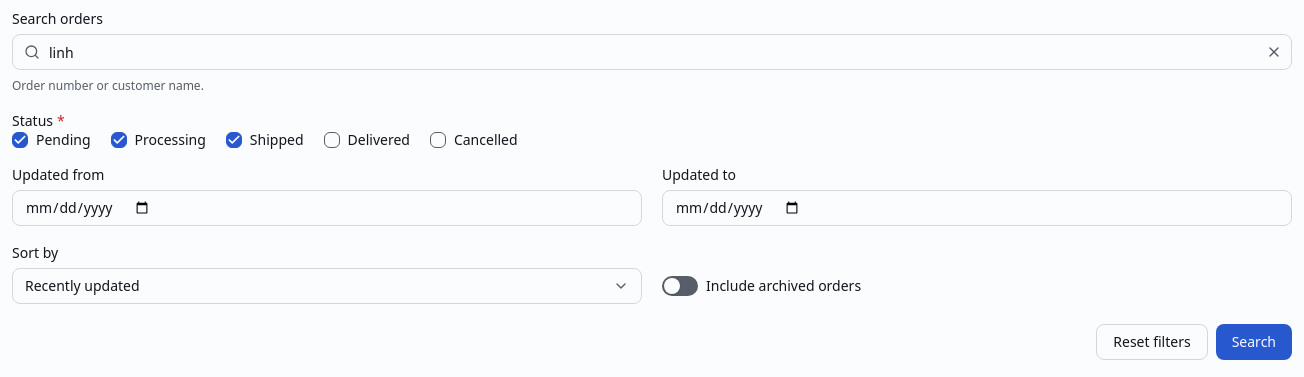
Test case: SearchFilterForm › clears the query with its clear button
The width and height of the screenshot is (1304, 377).
Click the button named "Clear search": point(1274, 52) [1256, 34, 1292, 70]
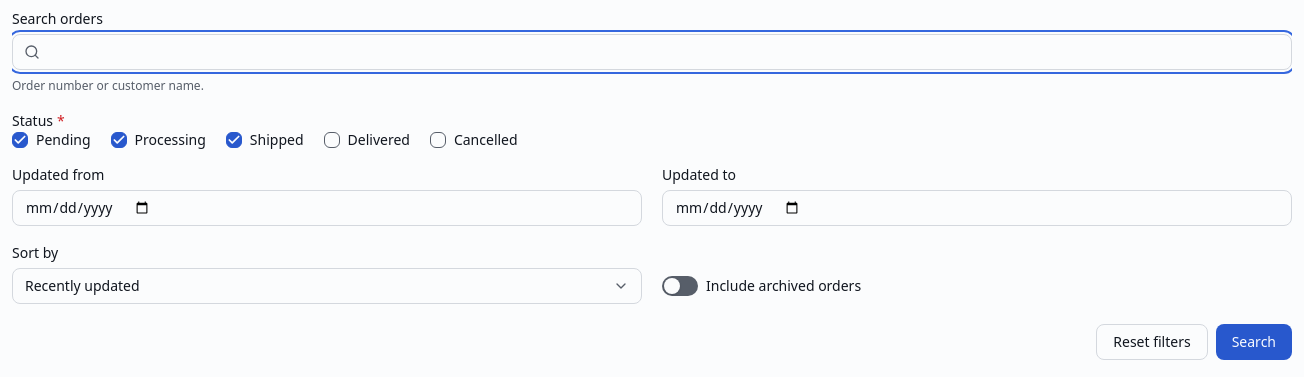
Expected: the search field labelled "Search orders" is empty, [12, 34, 1292, 70]
